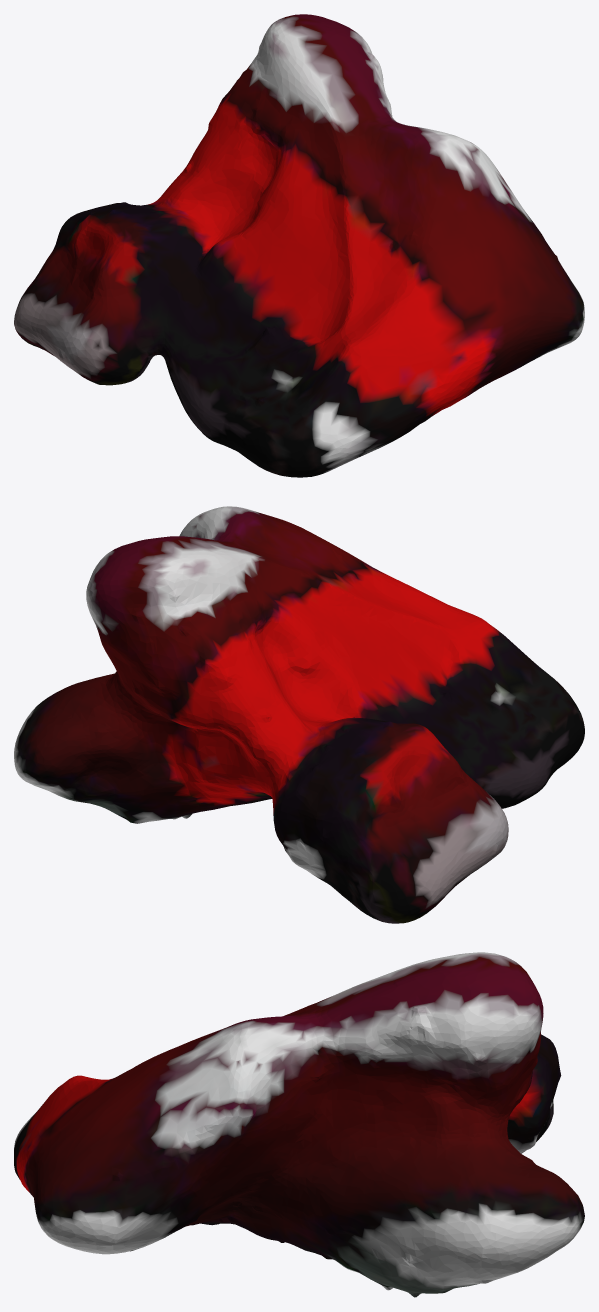
Rendered from cinna.glb.
3 views of the same model, one above another, from view 1: azimuth 30°, elevation 25°; view 2: azimuth 150°, elevation 25°; view 3: azimuth 270°, elevation 25° (orthographic). The views are drawn at different scales.
Visible parts, largest first — view 1: geometry_0; view 2: geometry_0; view 3: geometry_0.
Boxes of the visible parts, box(x1,y1,x2,y2) form: geometry_0: box(14, 14, 584, 477); geometry_0: box(14, 506, 584, 923); geometry_0: box(14, 952, 584, 1297).
Size of the model in its own units: 0.5 by 0.3325 by 0.5424.
